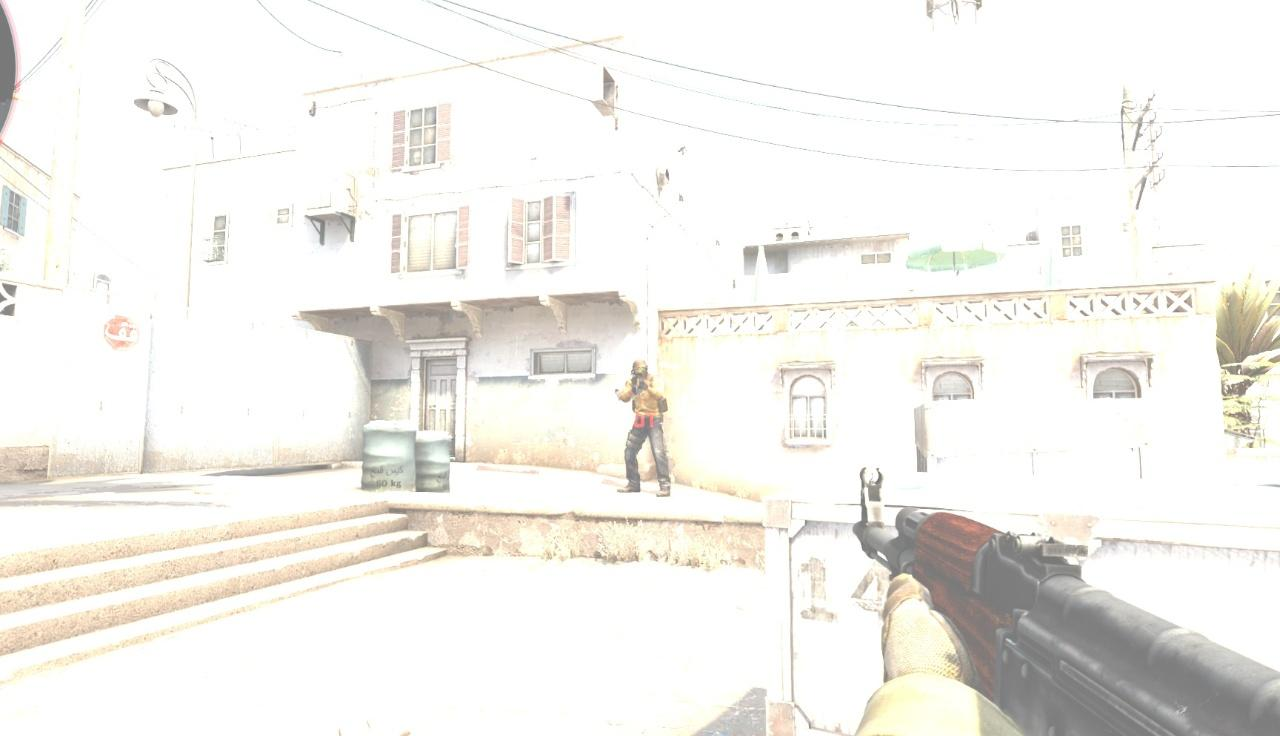rifle: (850, 466, 1280, 736)
tt: (624, 361, 671, 496)
tthead: (630, 361, 648, 382)
